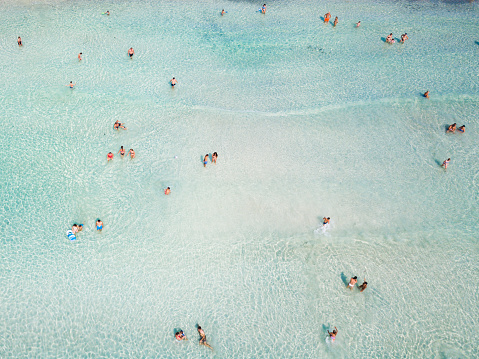people: (192, 322, 219, 351), (430, 153, 458, 176), (416, 83, 437, 106), (323, 323, 344, 345), (64, 222, 87, 241), (108, 118, 135, 134), (315, 215, 337, 234), (62, 75, 81, 94), (71, 47, 90, 66), (158, 181, 177, 199), (164, 74, 183, 92), (381, 28, 397, 48), (113, 139, 129, 159), (101, 145, 116, 166), (357, 278, 372, 298), (171, 324, 186, 343), (92, 215, 107, 234), (351, 14, 365, 34), (255, 1, 270, 19), (199, 152, 213, 171), (344, 273, 359, 289), (124, 44, 137, 62), (317, 10, 332, 25), (398, 31, 411, 48), (14, 32, 27, 48), (216, 4, 228, 20), (101, 7, 115, 20), (211, 149, 223, 164), (127, 143, 136, 162), (330, 14, 341, 29)
